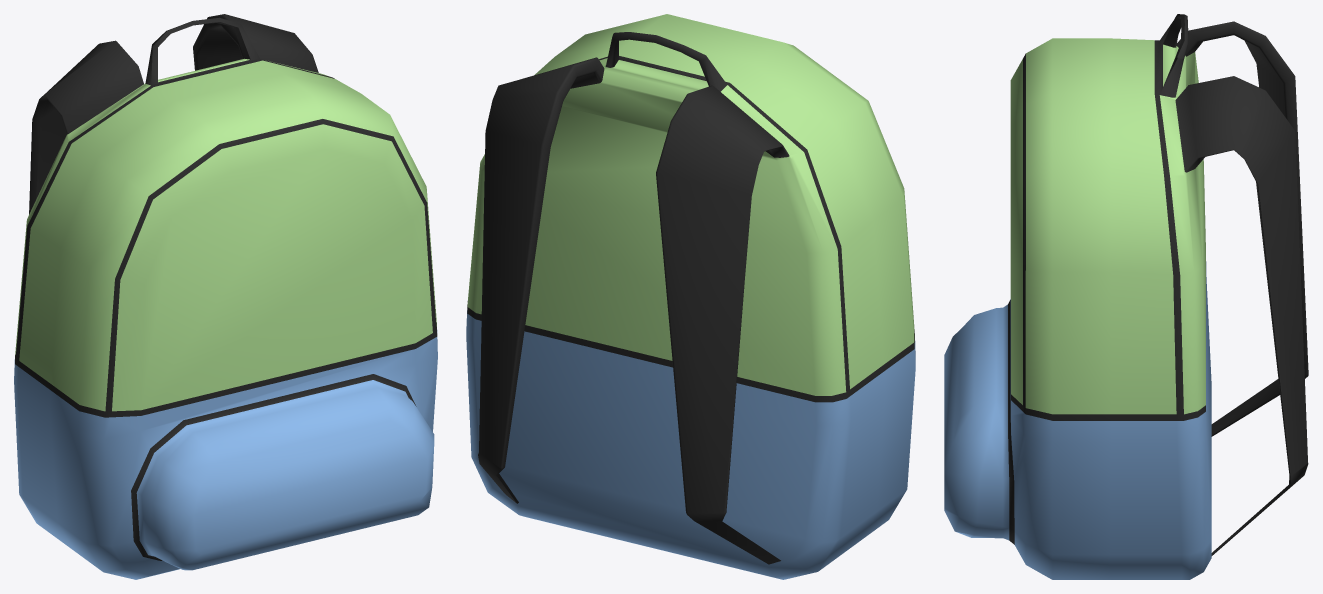
File: backpack_school.glb
The picture shows the model from 3 angles, left to right: view 1: azimuth 30°, elevation 25°; view 2: azimuth 150°, elevation 25°; view 3: azimuth 270°, elevation 25°; orthographic projection. The views are drawn at different scales.
Visible parts, largest first — view 1: secondary, 0, primary; view 2: secondary, 0, primary; view 3: secondary, 0, primary.
Part boxes in pixels (box(x1,y1,x2,y2)): secondary: box(15, 58, 436, 411); 0: box(14, 330, 437, 579); primary: box(15, 14, 437, 560); secondary: box(467, 14, 914, 395); 0: box(466, 310, 915, 579); primary: box(467, 32, 914, 564); secondary: box(1010, 38, 1205, 414); 0: box(944, 261, 1211, 579); primary: box(1008, 14, 1308, 555).
Bounding box in the file's own units: 0.4233 × 0.543 × 0.3626.
